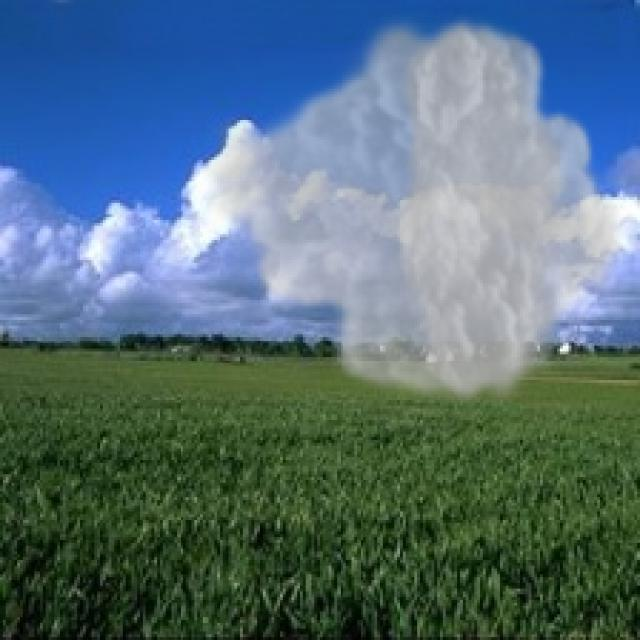Smoke: (203, 9, 626, 412)
